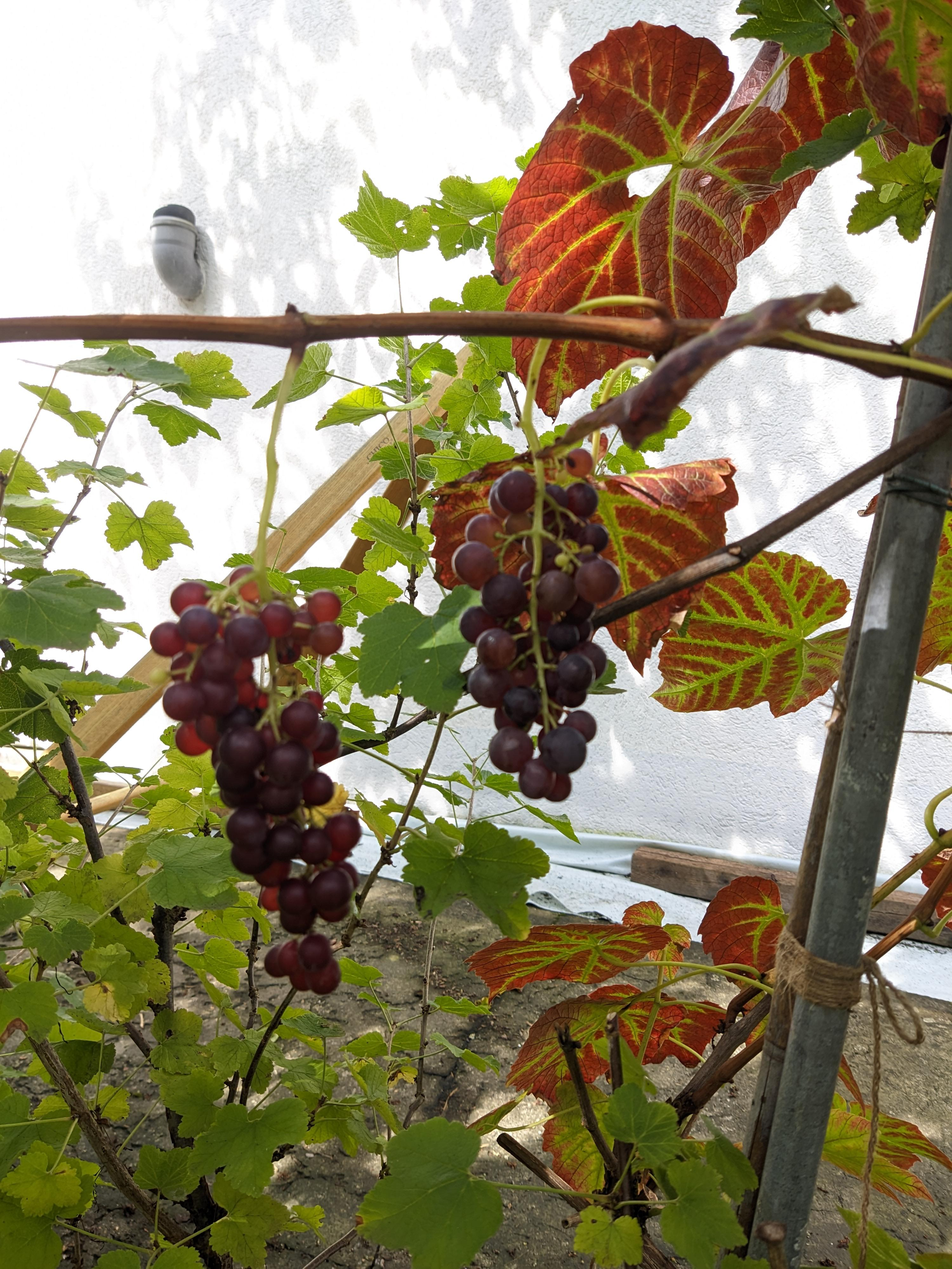Grape Ripe: (148, 564, 360, 1001), (455, 464, 622, 801)
